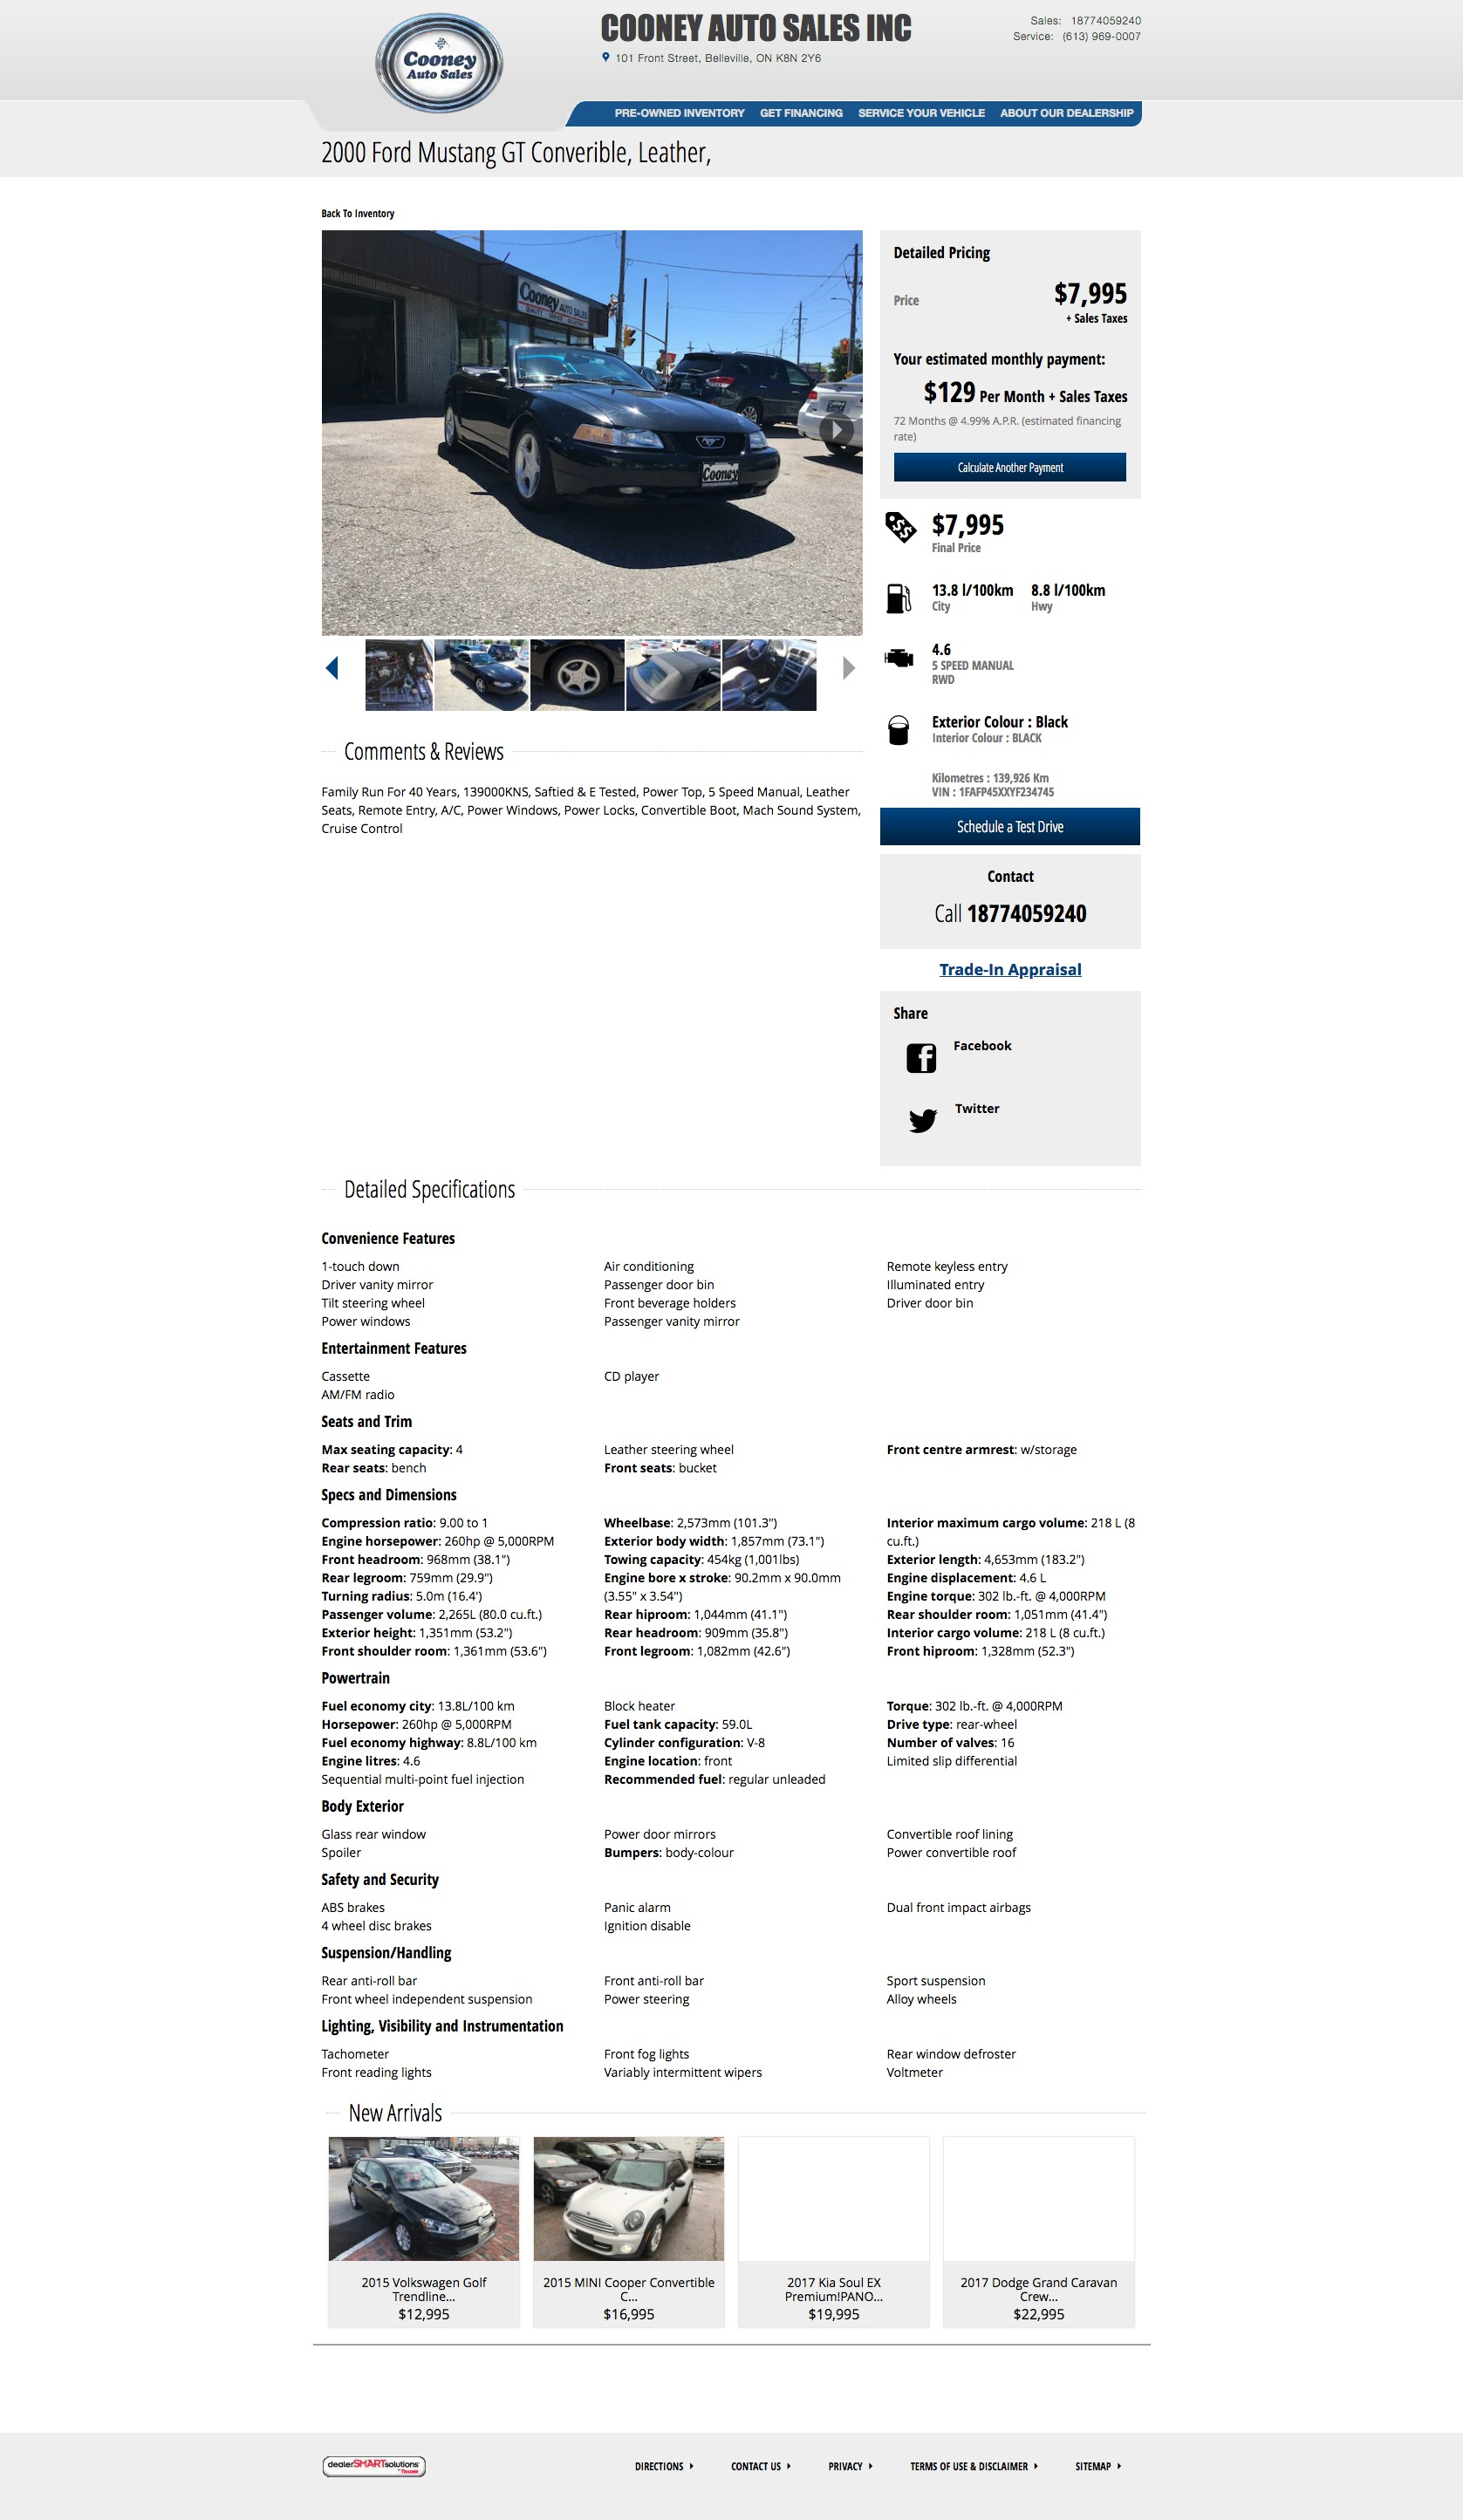car: (843, 657, 855, 681)
